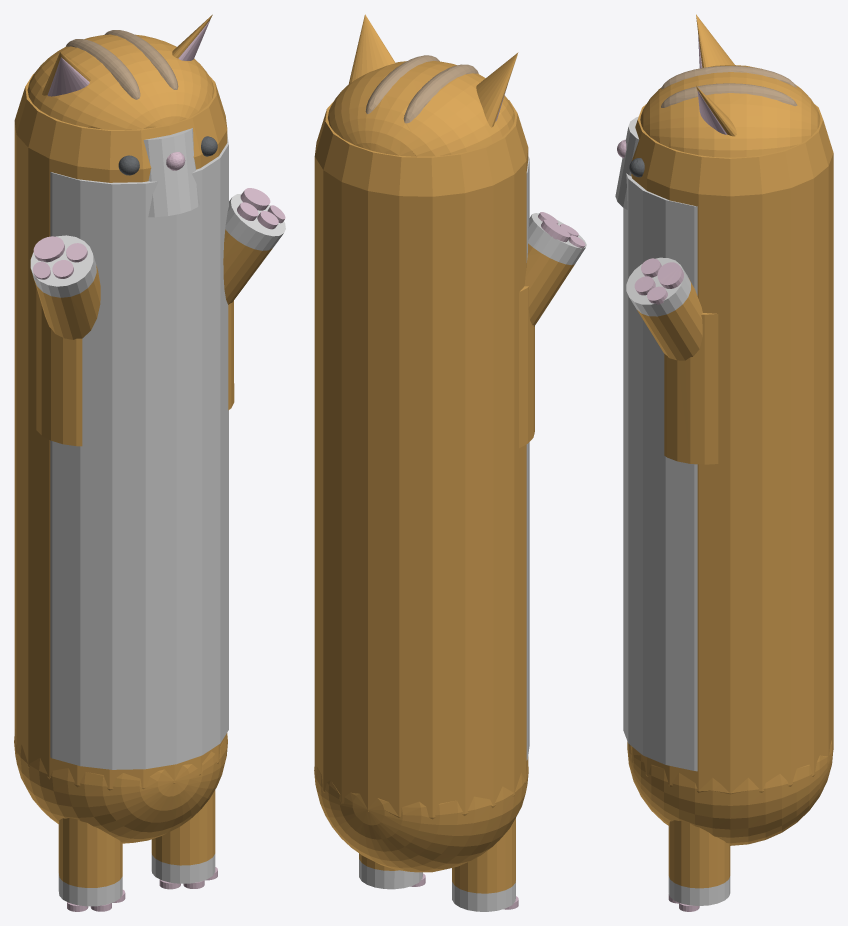
The model's file is mr_noodle_1.glb.
3 views of the same model, side by side, from view 1: azimuth 30°, elevation 25°; view 2: azimuth 150°, elevation 25°; view 3: azimuth 270°, elevation 25° (orthographic). The views are drawn at different scales.
Parts seen in each view (by area): view 1: Mesh_Mesh_head_geo.001_lambert2SG.001; view 2: Mesh_Mesh_head_geo.001_lambert2SG.001; view 3: Mesh_Mesh_head_geo.001_lambert2SG.001.
Part boxes in pixels (left/top/right/bottom): Mesh_Mesh_head_geo.001_lambert2SG.001: left=14, top=14, right=285, bottom=911; Mesh_Mesh_head_geo.001_lambert2SG.001: left=314, top=14, right=586, bottom=911; Mesh_Mesh_head_geo.001_lambert2SG.001: left=615, top=14, right=833, bottom=911.
Bounding box in the file's own units: 14 × 46 × 11.
